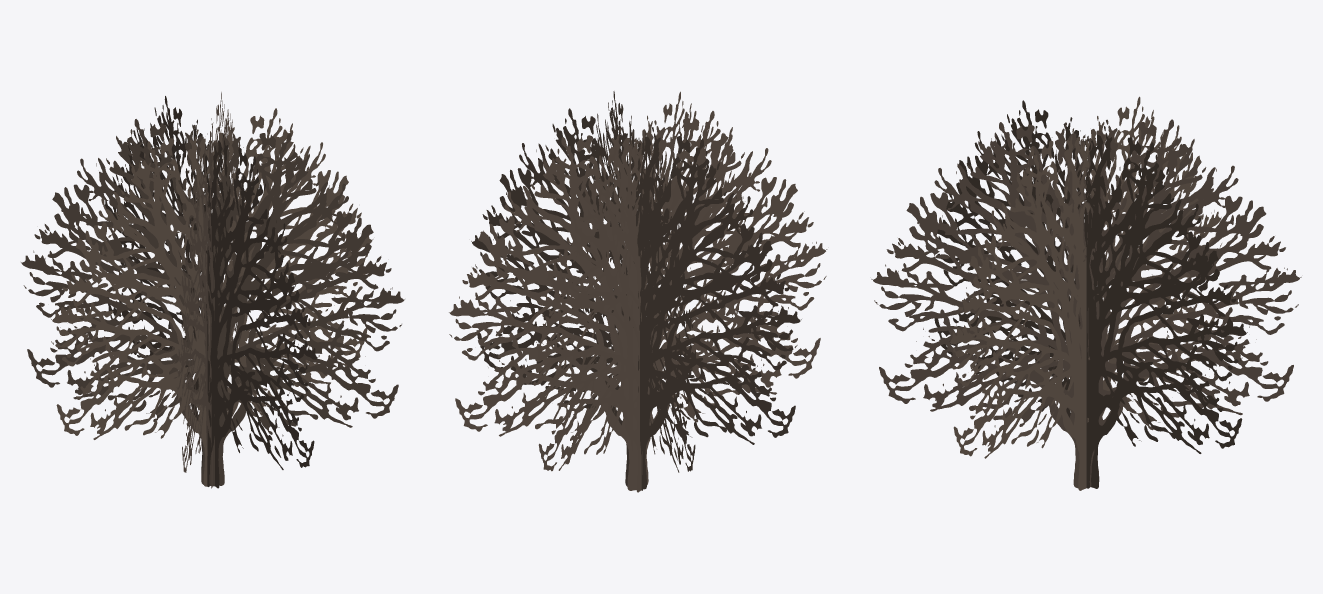
Rendered from ST_Bush.fbx.
The picture shows the model from 3 angles, left to right: view 1: azimuth 30°, elevation 25°; view 2: azimuth 150°, elevation 25°; view 3: azimuth 270°, elevation 25°; orthographic projection.
Parts seen in each view (by area): view 1: Bush; view 2: Bush; view 3: Bush.
Boxes of the visible parts, x1,y1,x2,y2 form: Bush: (21, 92, 404, 488); Bush: (449, 91, 827, 492); Bush: (871, 96, 1301, 490).
Bounding box in the file's own units: 97.42 × 109 × 110.
